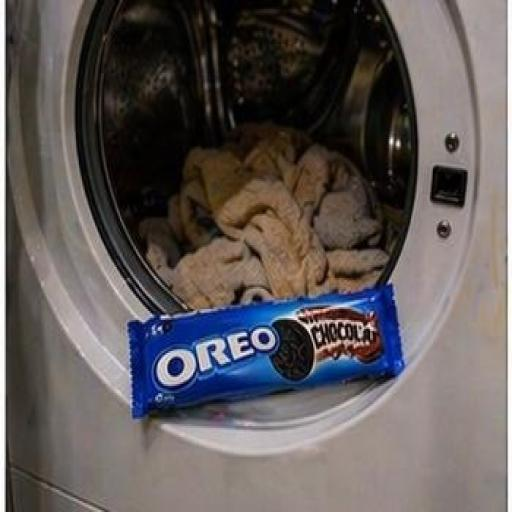oreo: (89, 225, 453, 457)
